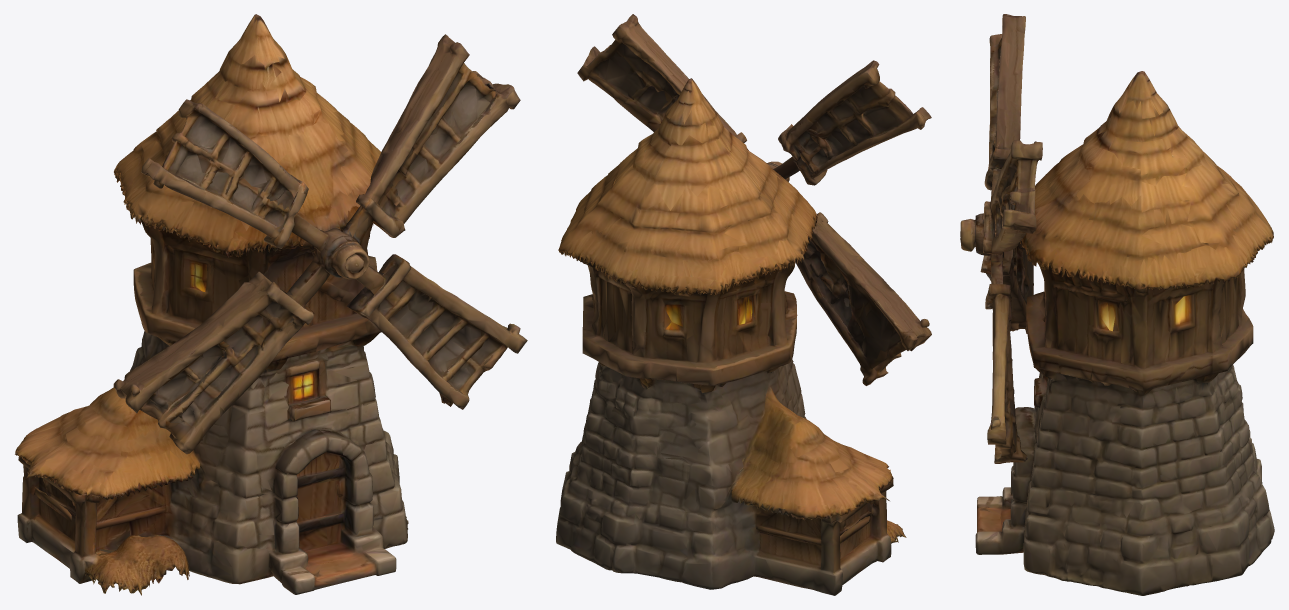
File: Windmill_Haven.glb
3 views of the same model, side by side, from view 1: azimuth 30°, elevation 25°; view 2: azimuth 150°, elevation 25°; view 3: azimuth 270°, elevation 25° (orthographic). The views are drawn at different scales.
Parts seen in each view (by area): view 1: Windmill_Haven; view 2: Windmill_Haven; view 3: Windmill_Haven.
Boxes of the visible parts, box(x1,y1,x2,y2) form: Windmill_Haven: box(15, 14, 527, 595); Windmill_Haven: box(556, 14, 931, 595); Windmill_Haven: box(960, 14, 1274, 595).
Size of the model in its own units: 1.73 by 2 by 1.23.
Materials: 1 (1 with a texture image).
